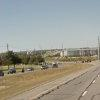Tree: (0, 42, 44, 65)
